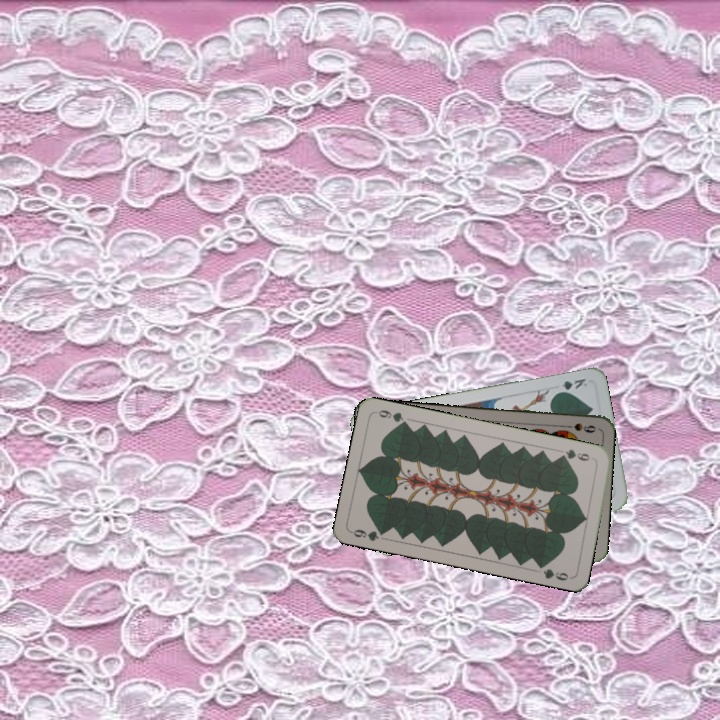G9: (347, 525, 389, 544), (556, 445, 597, 464)
GK: (551, 374, 590, 396)
S9: (558, 419, 599, 435)
